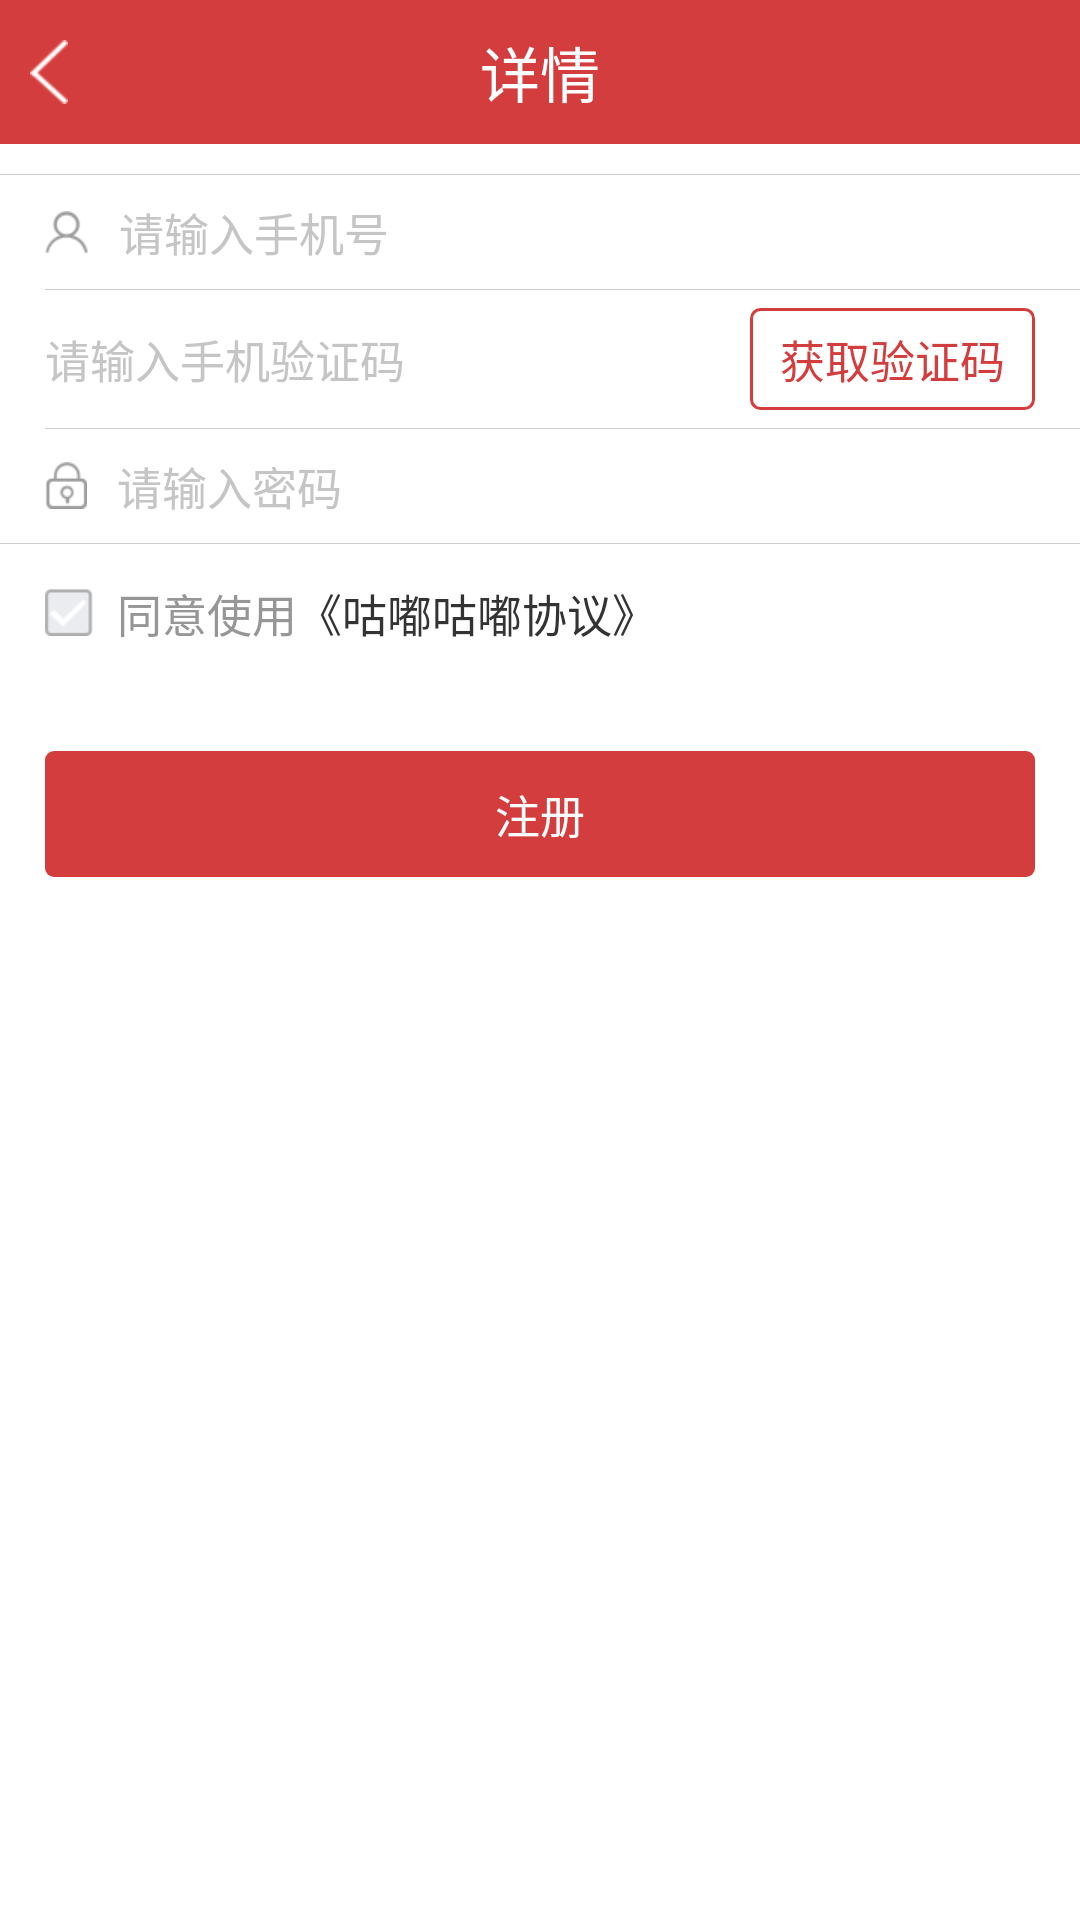

Icons on this 1080w x 1920h Android screen, each with the point to tap as (x,y):
login name: (66,232)
login pwd: (66,485)
